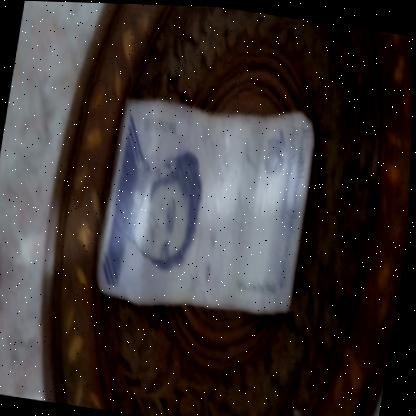ten-front-vef: (91, 85, 325, 325)
